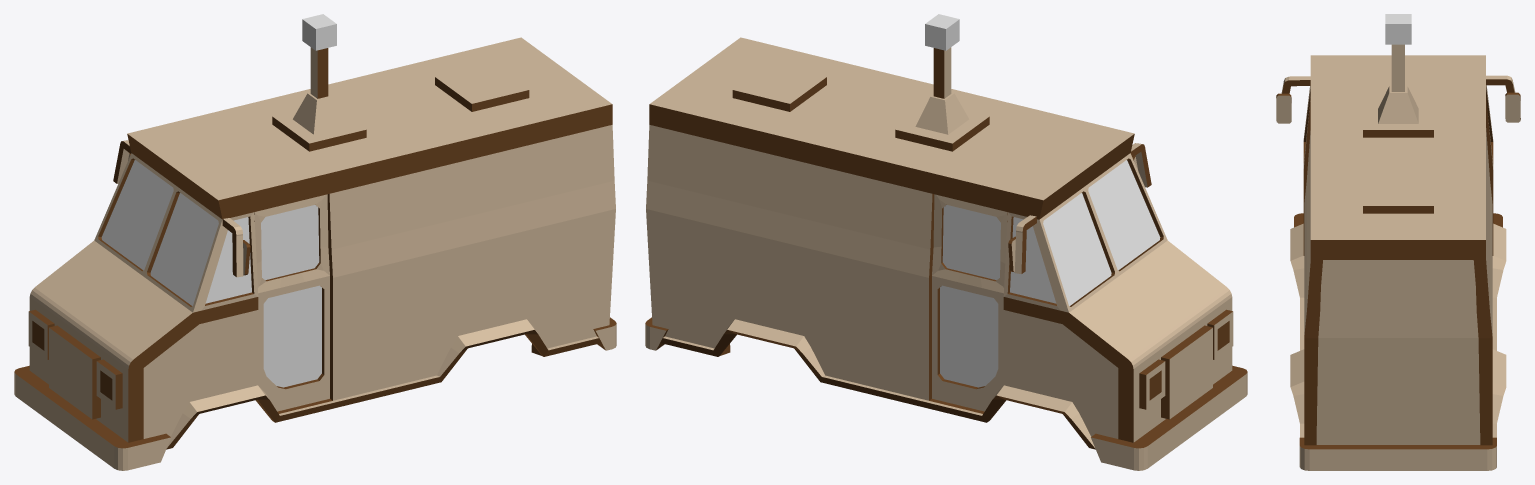
File: Van.fbx
3 views of the same model, side by side, from view 1: azimuth 30°, elevation 25°; view 2: azimuth 150°, elevation 25°; view 3: azimuth 270°, elevation 25° (orthographic). The views are drawn at different scales.
Visible parts, largest first — view 1: Van; view 2: Van; view 3: Van.
Part boxes in pixels (x1,y1,x2,y2): Van: [14, 14, 616, 470]; Van: [645, 14, 1247, 470]; Van: [1276, 14, 1520, 470].
Bounding box in the file's own units: 675 × 447 × 296.
